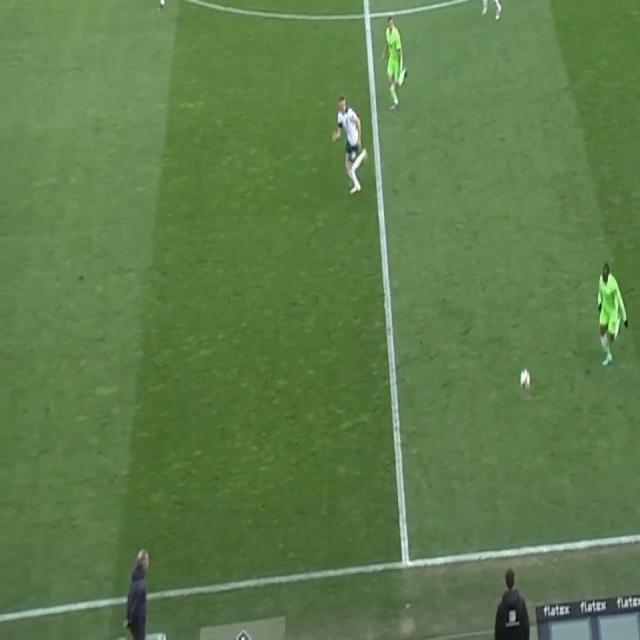ball: (518, 366, 534, 394)
